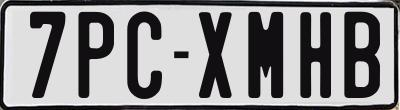7: (28, 9, 63, 99)
B: (341, 11, 378, 98)
C: (124, 10, 160, 101)
H: (298, 11, 332, 102)
M: (247, 12, 285, 100)
P: (76, 9, 114, 101)
X: (199, 12, 234, 98)
